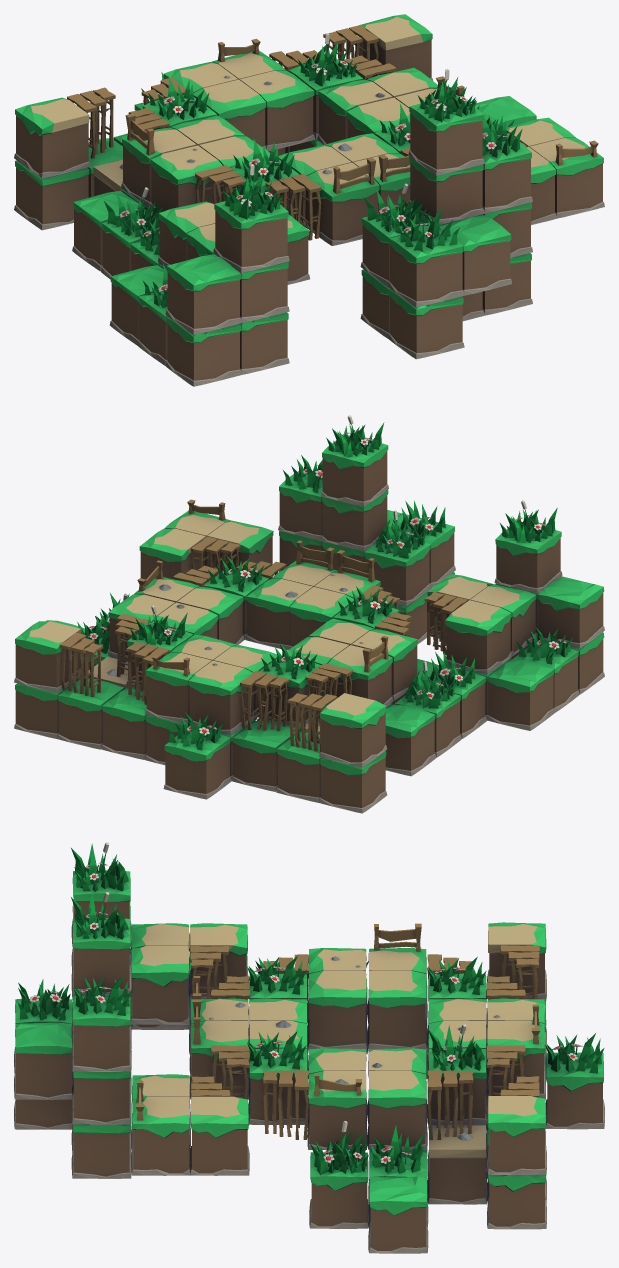
File: Crime_Map_02.FBX
3 renders of one model, top to bottom at view 1: azimuth 30°, elevation 25°; view 2: azimuth 150°, elevation 25°; view 3: azimuth 270°, elevation 25°, orthographic. The views are drawn at different scales.
Visible parts, largest first — view 1: Wall_01, Plant_01, Ground_01, Plant_02, Wood_01, Wall_Ground_01, Flower_01, Stone_01; view 2: Wall_01, Plant_01, Ground_01, Wood_01, Plant_02, Wall_Ground_01, Flower_01, Stone_01; view 3: Wall_01, Plant_01, Ground_01, Wood_01, Plant_02, Wall_Ground_01, Flower_01, Stone_01.
Part boxes in pixels (x1,y1,x2,y2): Wall_01: [16, 40, 602, 380]; Plant_01: [15, 14, 603, 342]; Ground_01: [31, 17, 584, 241]; Plant_02: [104, 41, 522, 307]; Wood_01: [67, 25, 598, 240]; Wall_Ground_01: [14, 77, 604, 386]; Flower_01: [119, 33, 506, 292]; Stone_01: [120, 61, 503, 289]; Wall_01: [15, 451, 603, 807]; Plant_01: [15, 435, 604, 775]; Ground_01: [29, 515, 519, 731]; Wood_01: [59, 499, 467, 752]; Plant_02: [77, 422, 572, 750]; Wall_Ground_01: [14, 484, 604, 813]; Flower_01: [89, 415, 566, 735]; Stone_01: [90, 433, 564, 732]; Wall_01: [16, 901, 602, 1250]; Plant_01: [15, 870, 603, 1215]; Ground_01: [140, 924, 537, 1158]; Wood_01: [135, 923, 540, 1139]; Plant_02: [18, 843, 604, 1175]; Wall_Ground_01: [14, 917, 604, 1253]; Flower_01: [29, 842, 583, 1163]; Stone_01: [32, 863, 579, 1161].
Size of the model in its own units: 31.45 by 14.79 by 31.54.
